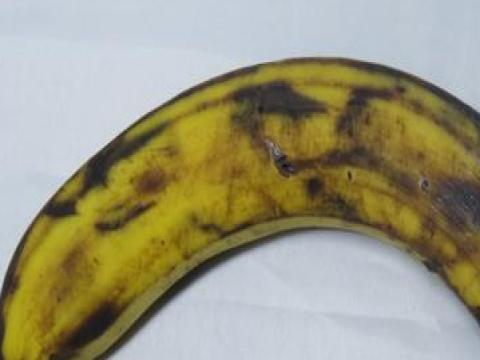overripe: (1, 52, 479, 359)
